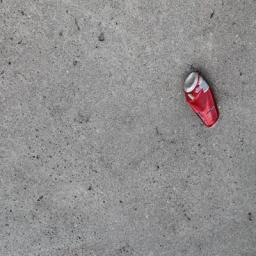FOD: (182, 70, 226, 133)
